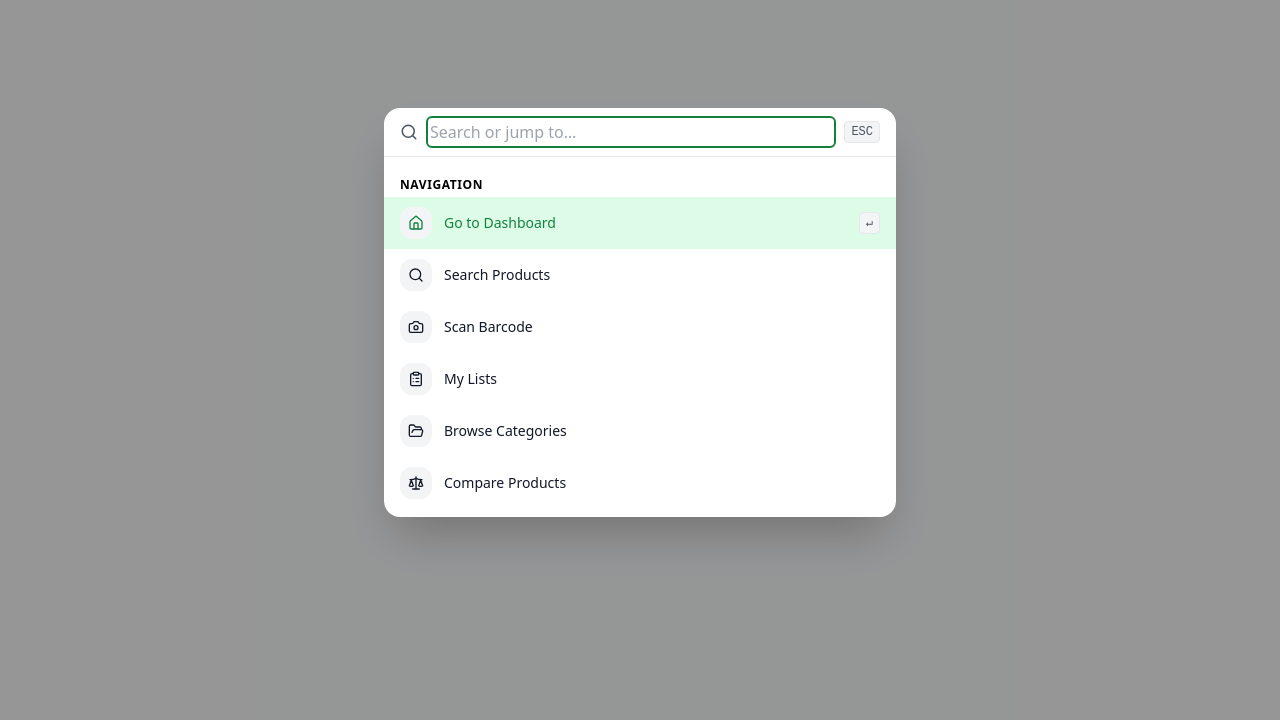
CommandPalette › shows search fallback for unmatched query
Type "zzzzzzz" into the field with placeholder "Search or jump to…" at (631, 132), box [430,120,832,144]
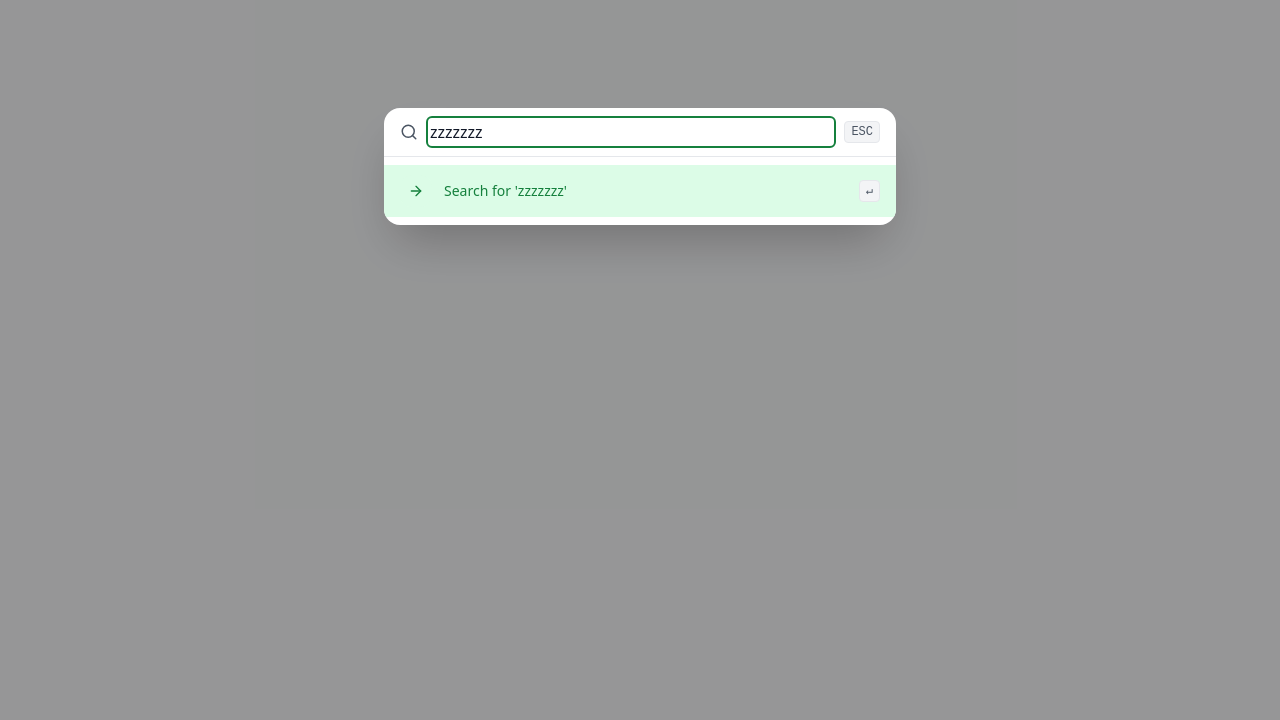
Now the text "Search for 'zzzzzzz'" is shown, box [444,181,567,200]
